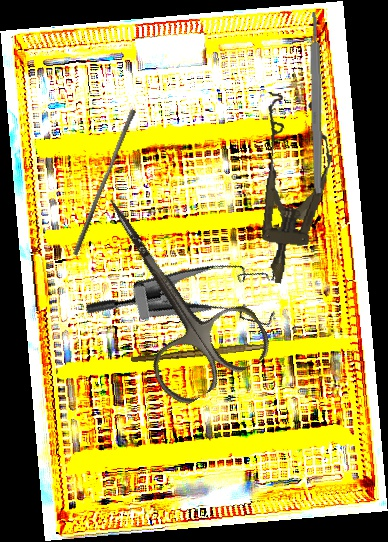Iris Scissors: (62, 167, 278, 412)
Pusher: (72, 106, 137, 259)
Scalpel Handle: (130, 339, 268, 366), (309, 11, 324, 194)
Speculum: (83, 229, 295, 389), (241, 91, 340, 289)
